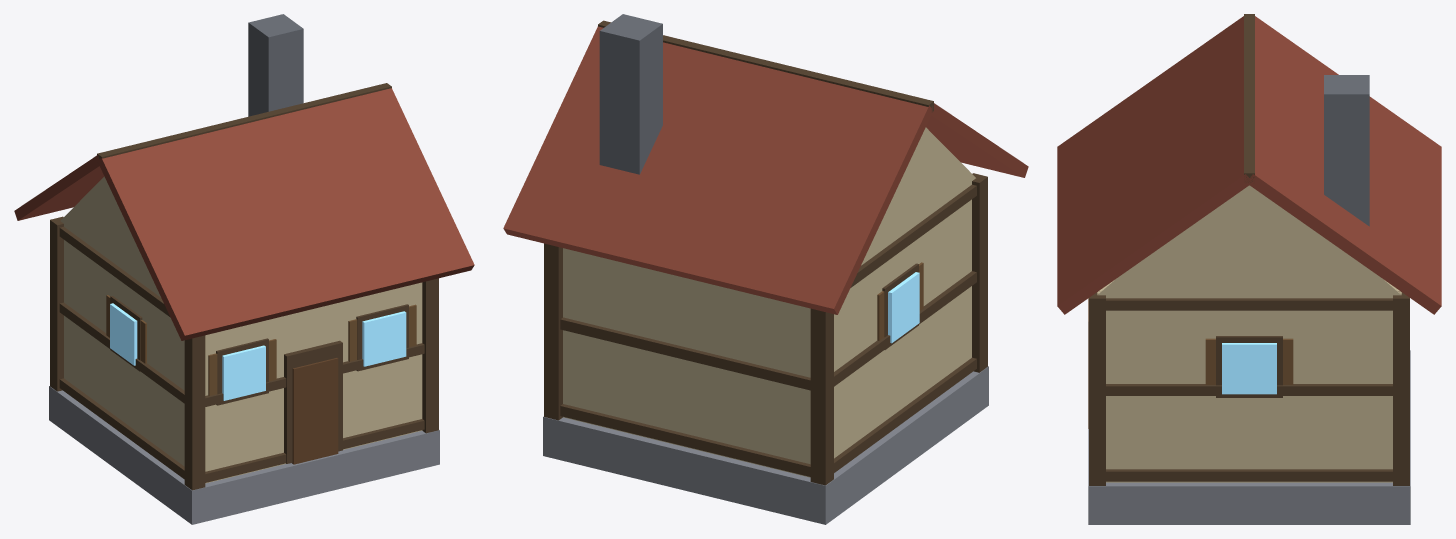
The model's file is Building_3.glb.
The picture shows the model from 3 angles, left to right: view 1: azimuth 30°, elevation 25°; view 2: azimuth 150°, elevation 25°; view 3: azimuth 270°, elevation 25°; orthographic projection. The views are drawn at different scales.
Size of the model in its own units: 6.2 by 7.5 by 6.32.
